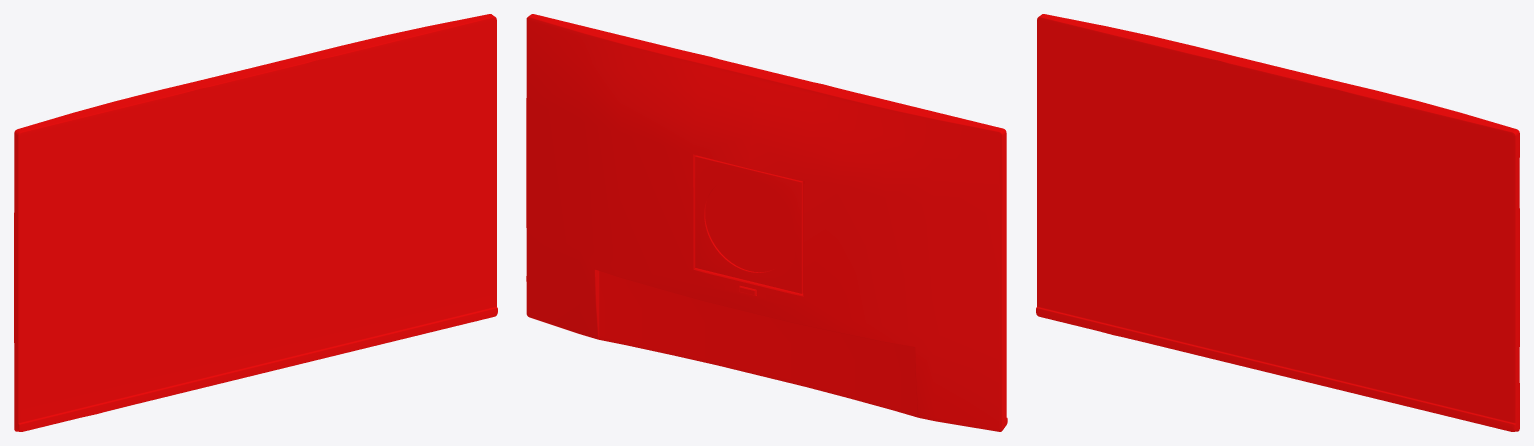
Rendered from SM_PC_screen_01_body.glb.
3 renders of one model, left to right at view 1: azimuth 30°, elevation 25°; view 2: azimuth 150°, elevation 25°; view 3: azimuth 330°, elevation 25°, orthographic.
Visible parts, largest first — view 1: SM_PC_screen_01_body_LOD0; view 2: SM_PC_screen_01_body_LOD0; view 3: SM_PC_screen_01_body_LOD0.
Boxes of the visible parts, x1=… form: SM_PC_screen_01_body_LOD0: x1=14, y1=14, x2=497, y2=431; SM_PC_screen_01_body_LOD0: x1=526, y1=14, x2=1007, y2=431; SM_PC_screen_01_body_LOD0: x1=1036, y1=14, x2=1519, y2=431.
Size of what is drawn, in the model's own units: 0.5359 by 0.3232 by 0.0438.
